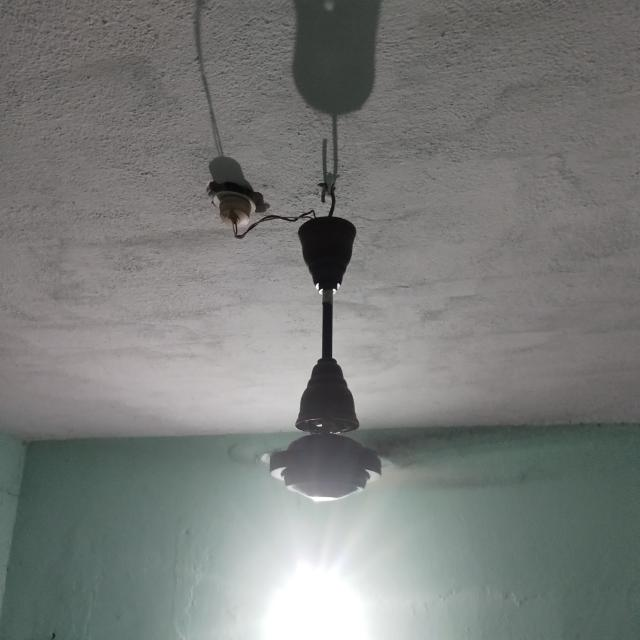fan_on: (56, 215, 622, 503)
